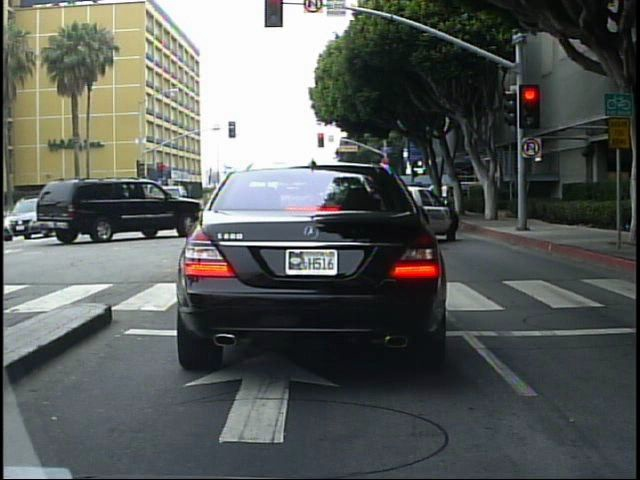person: (437, 179, 453, 212)
